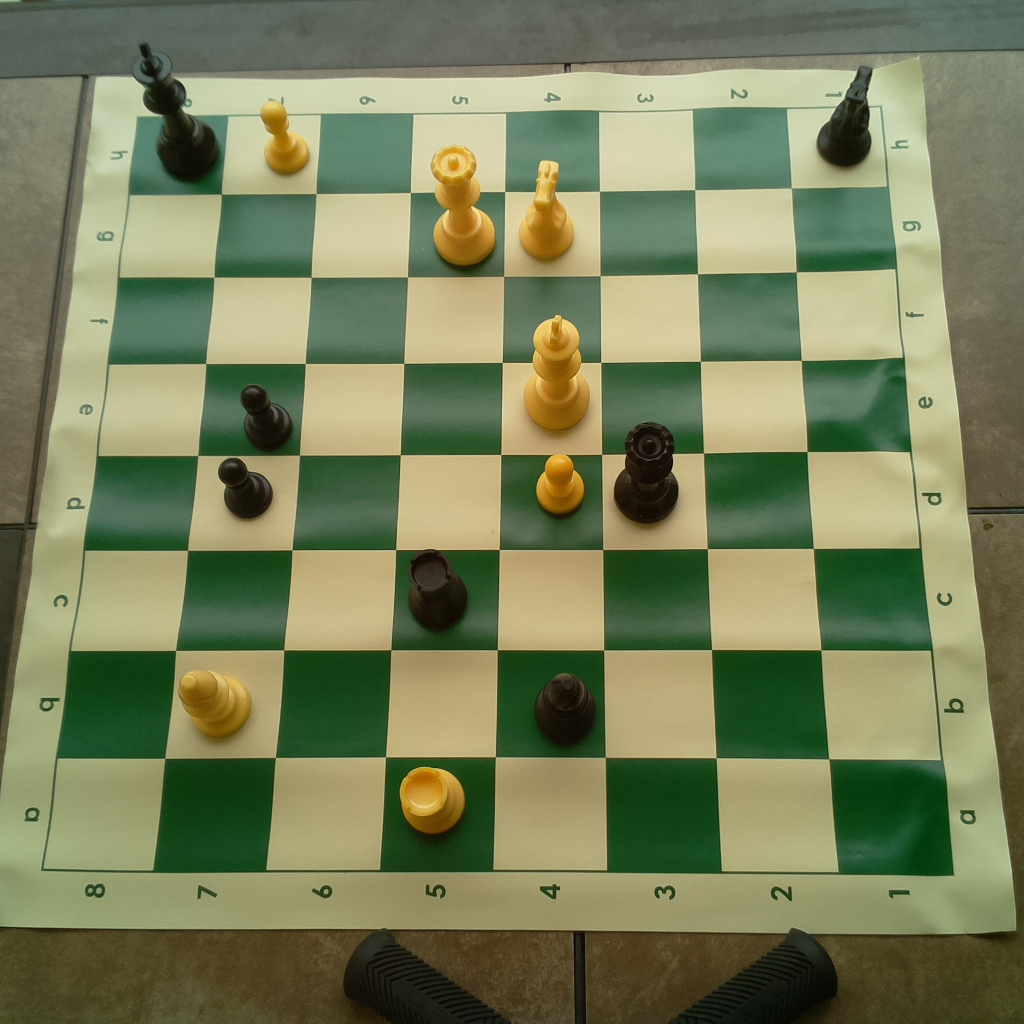black_bishop: (529, 670, 599, 747)
black_king: (131, 38, 228, 184)
black_knight: (807, 61, 877, 169)
black_pawn: (233, 379, 298, 452), (215, 452, 275, 519)
black_queen: (608, 418, 684, 527)
black_rook: (402, 545, 471, 631)
file_a: (40, 758, 958, 877)
file_b: (57, 652, 944, 760)
file_c: (67, 551, 933, 652)
file_d: (85, 449, 919, 547)
file_e: (99, 357, 911, 454)
file_f: (111, 269, 902, 360)
file_g: (118, 187, 894, 279)
file_h: (128, 101, 888, 186)
outline: (42, 106, 954, 877)
rank_1: (785, 105, 954, 878)
rank_2: (694, 106, 840, 871)
rank_3: (599, 108, 723, 871)
rank_4: (488, 113, 607, 871)
rank_5: (379, 112, 506, 870)
rank_6: (264, 113, 414, 871)
rank_7: (151, 115, 319, 870)
rank_8: (41, 114, 231, 870)
white_bishop: (173, 661, 257, 744)
white_king: (515, 306, 593, 431)
white_knight: (511, 154, 581, 266)
white_pawn: (255, 99, 315, 175), (531, 452, 590, 519)
white_queen: (427, 139, 503, 267)
white_rook: (396, 758, 470, 843)
